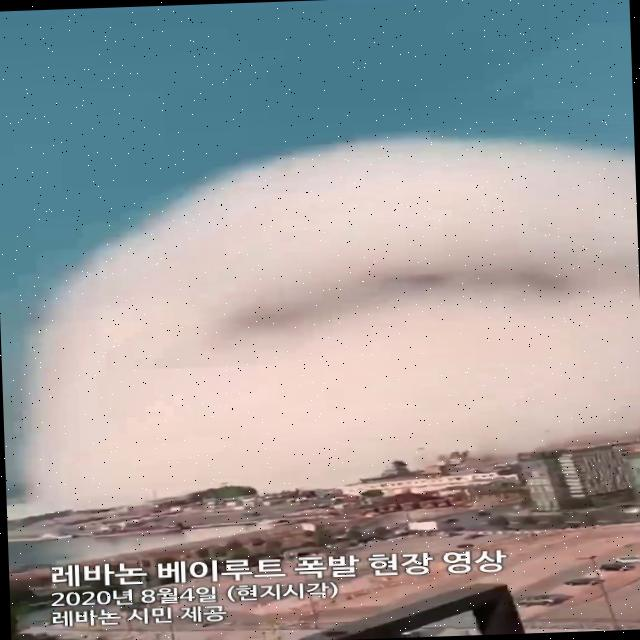explosion: (14, 110, 640, 542)
